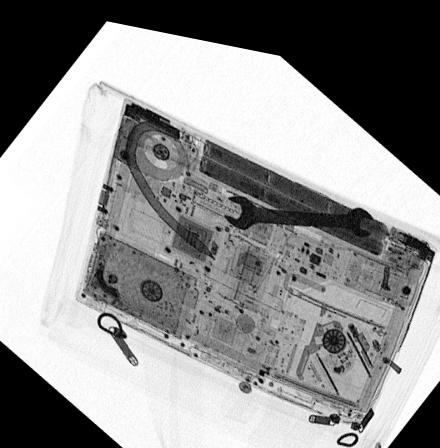Wrench: (223, 183, 377, 223)
